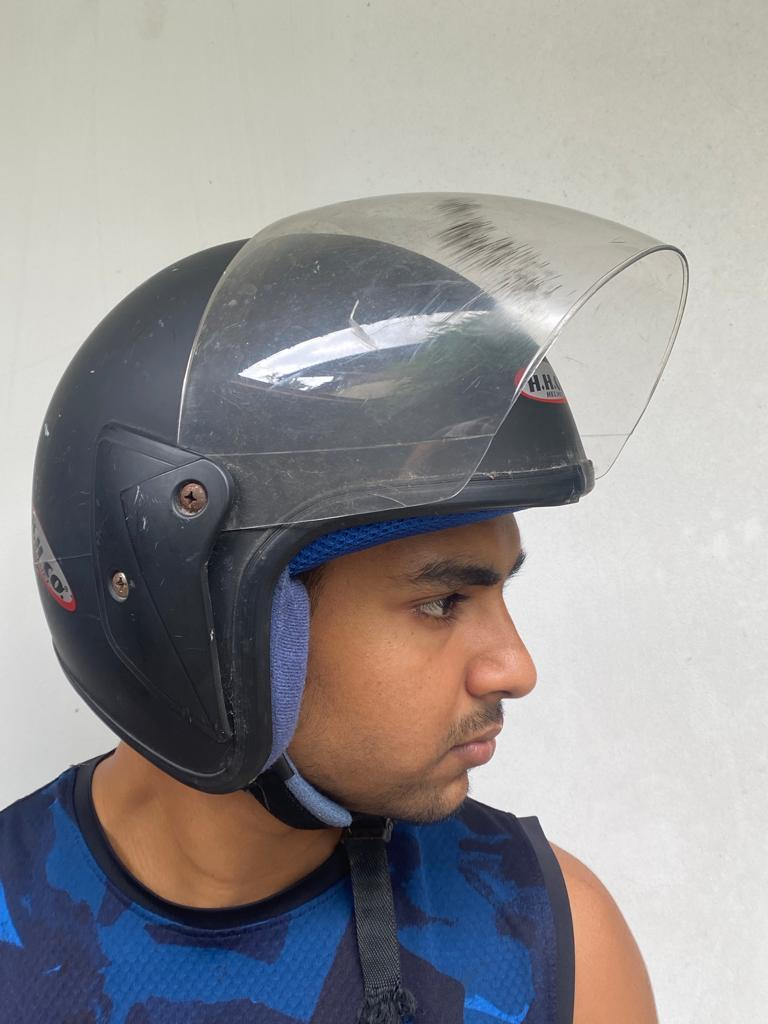helmet: (28, 186, 690, 795)
